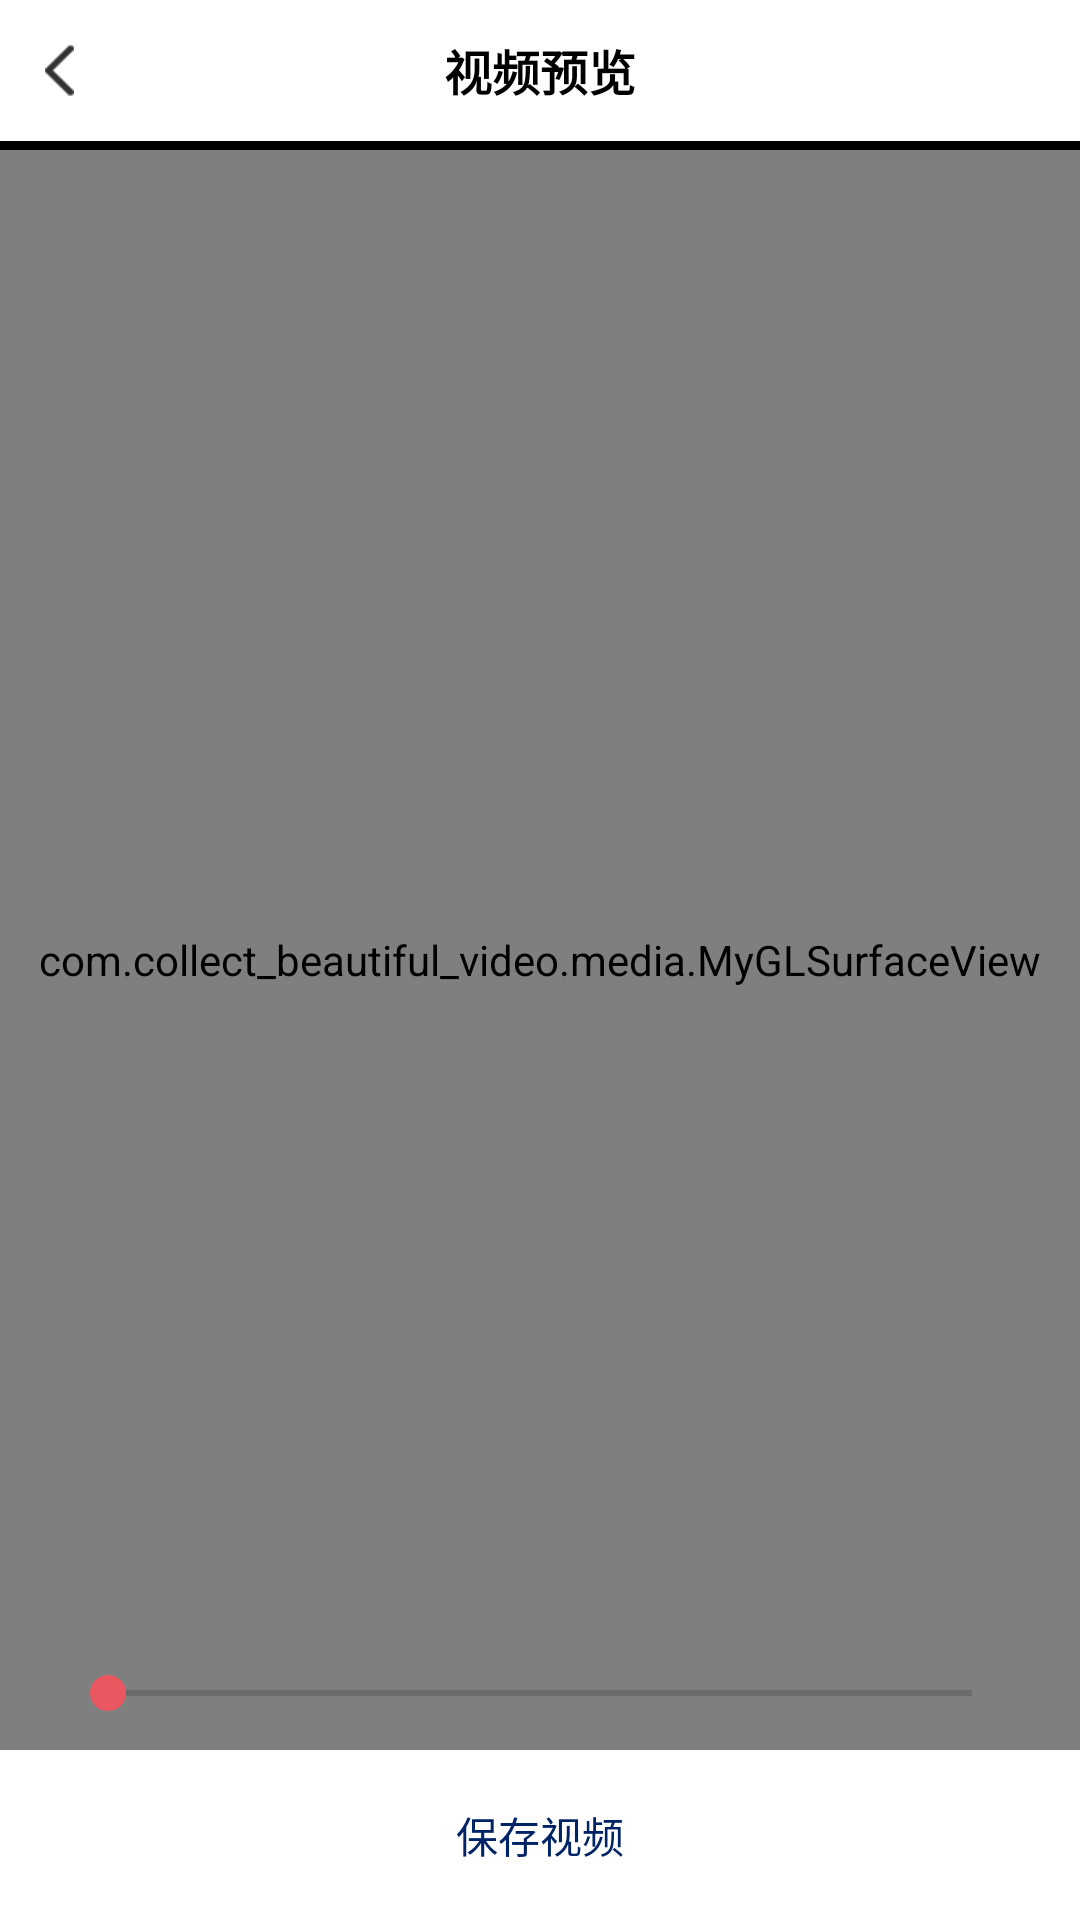

Screen size 1080x1920. Icon name, then its center in pixels as [x,y]:
back: [59,70]
